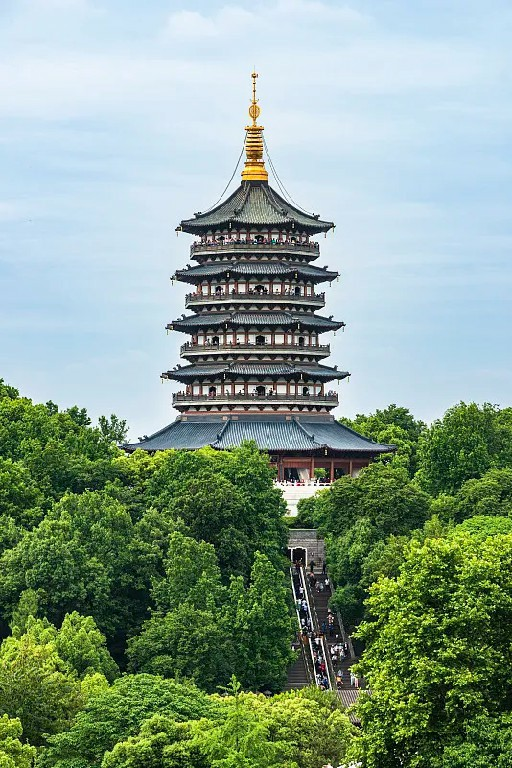Leifeng: (113, 69, 396, 518)
